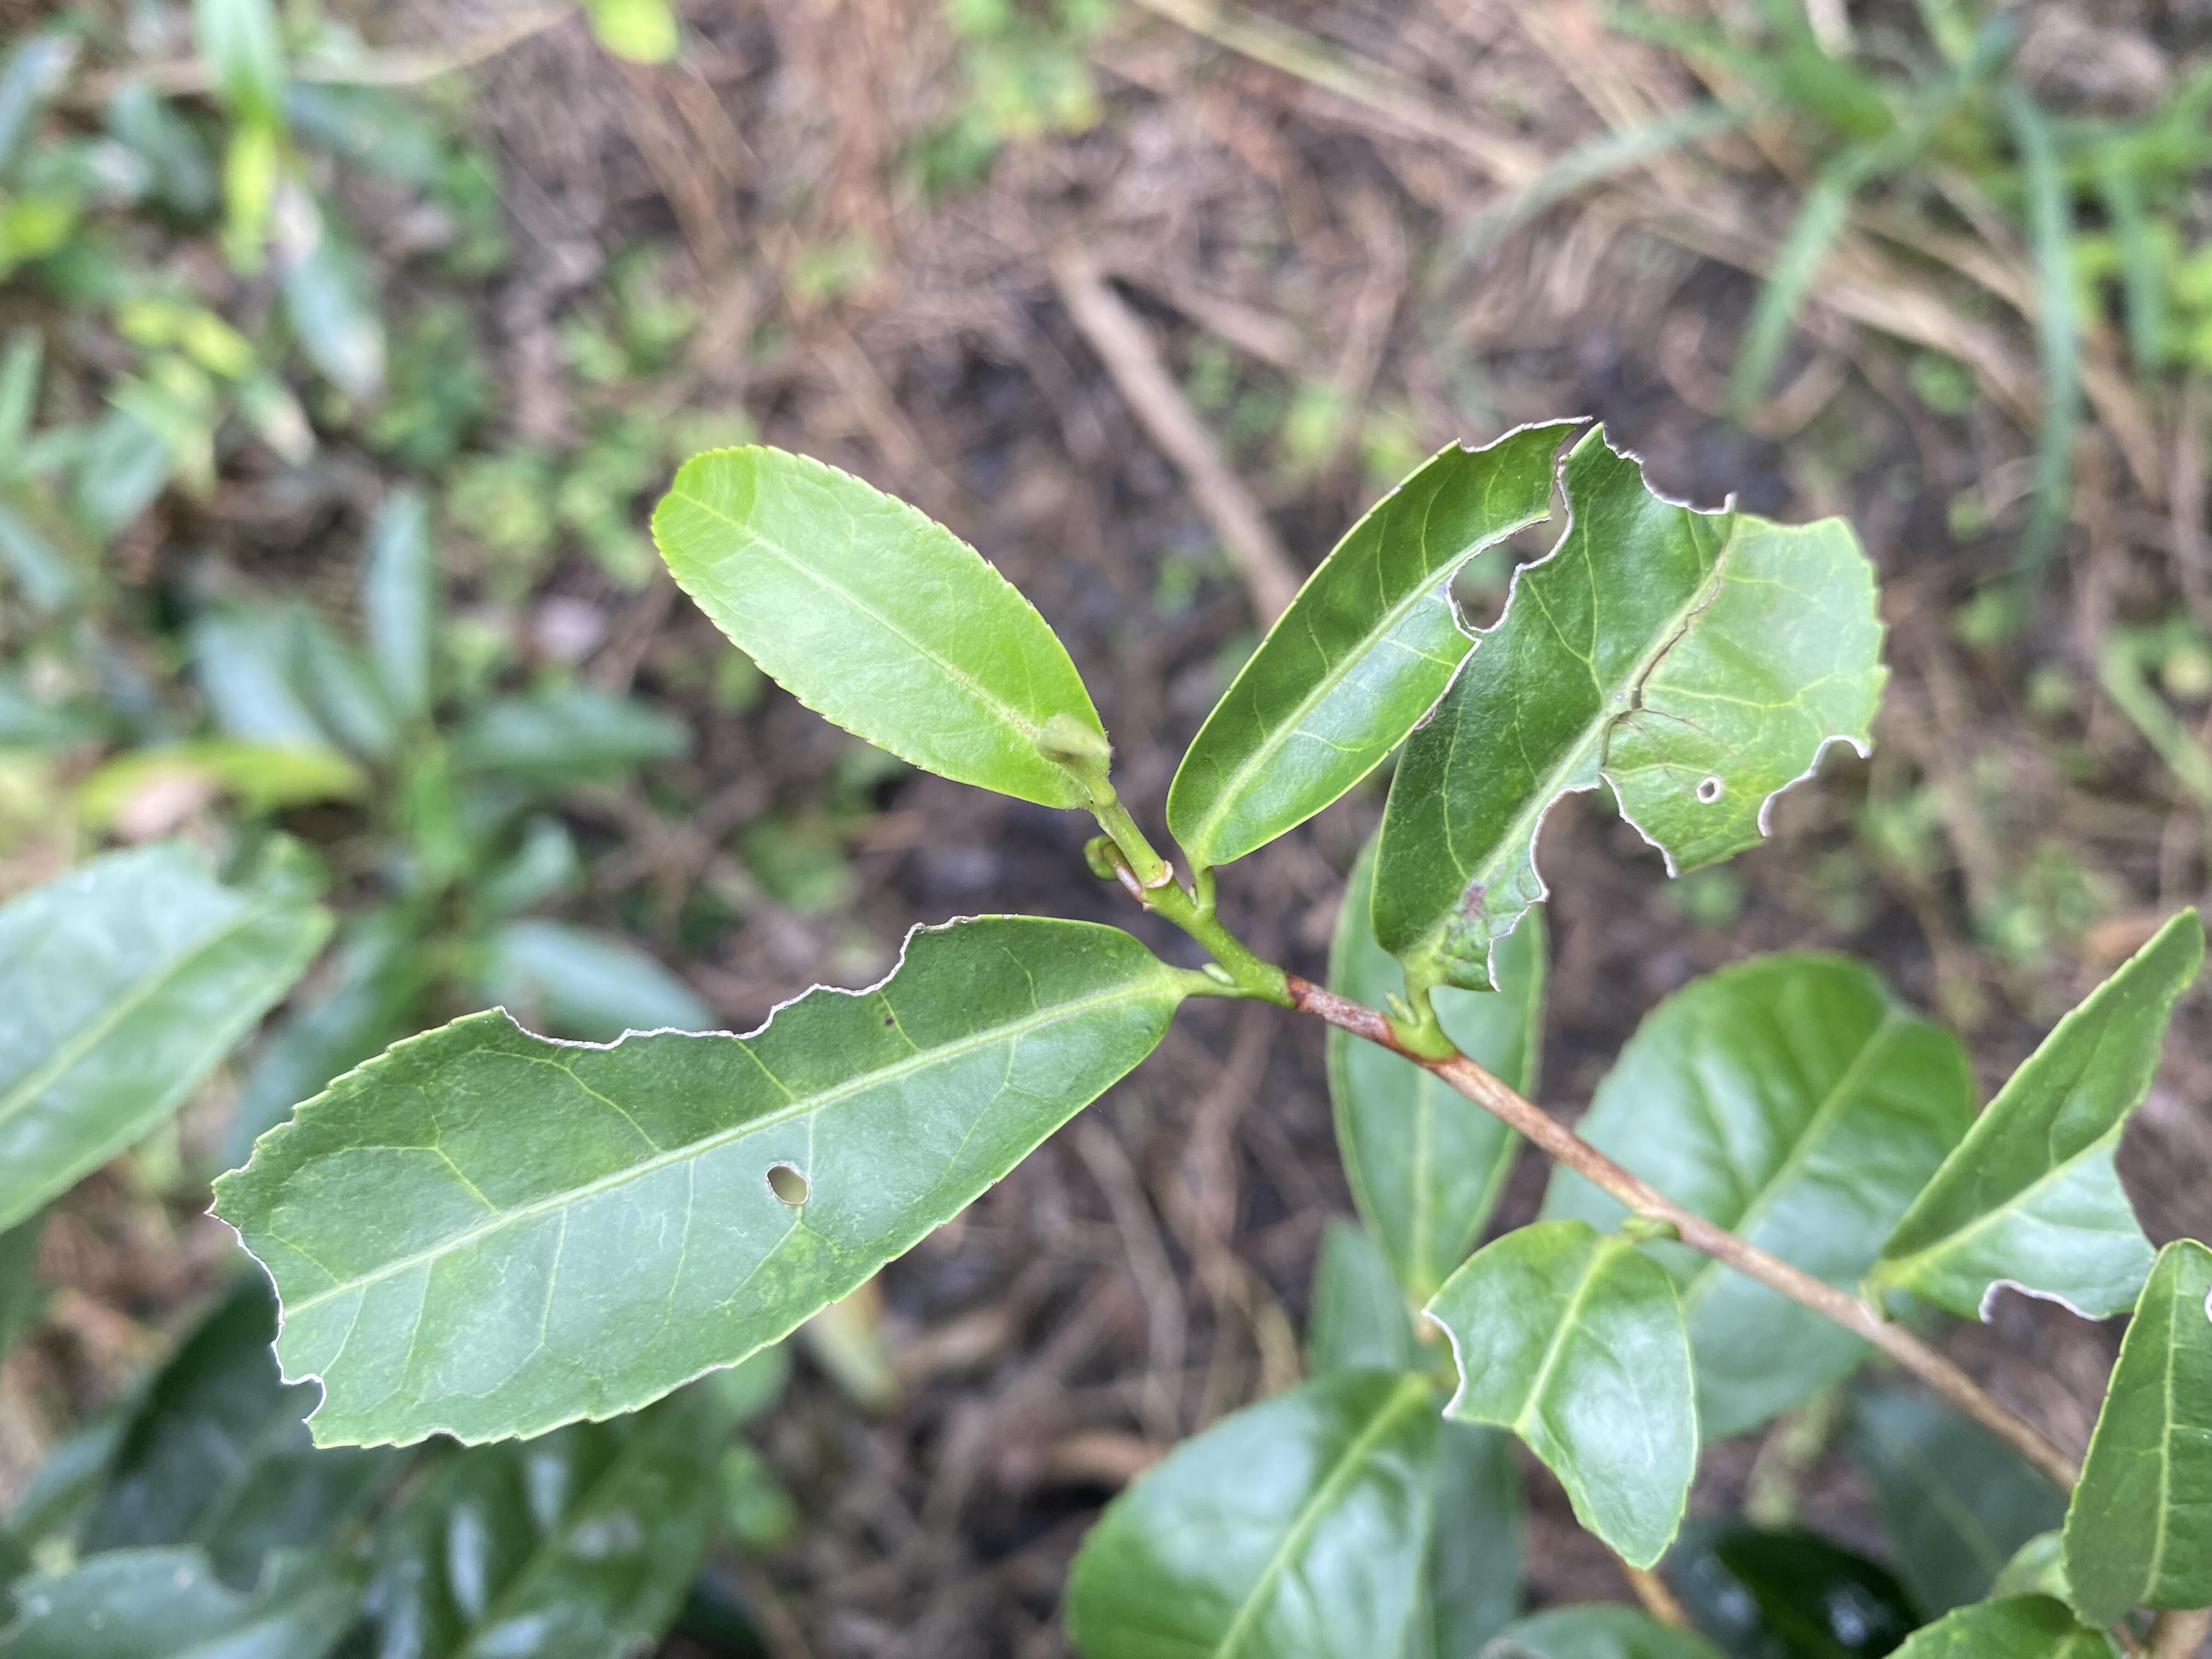chihuo_high: (199, 913, 1177, 1457), (1369, 423, 1890, 993), (1163, 416, 1595, 871), (1871, 903, 2203, 1333), (1421, 1216, 1703, 1572)
healthy: (646, 441, 1111, 812)
